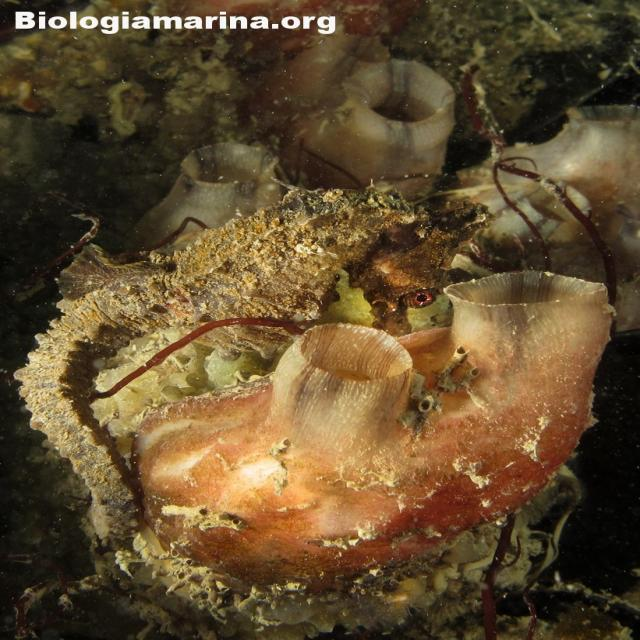Hippo: (328, 180, 491, 348)
